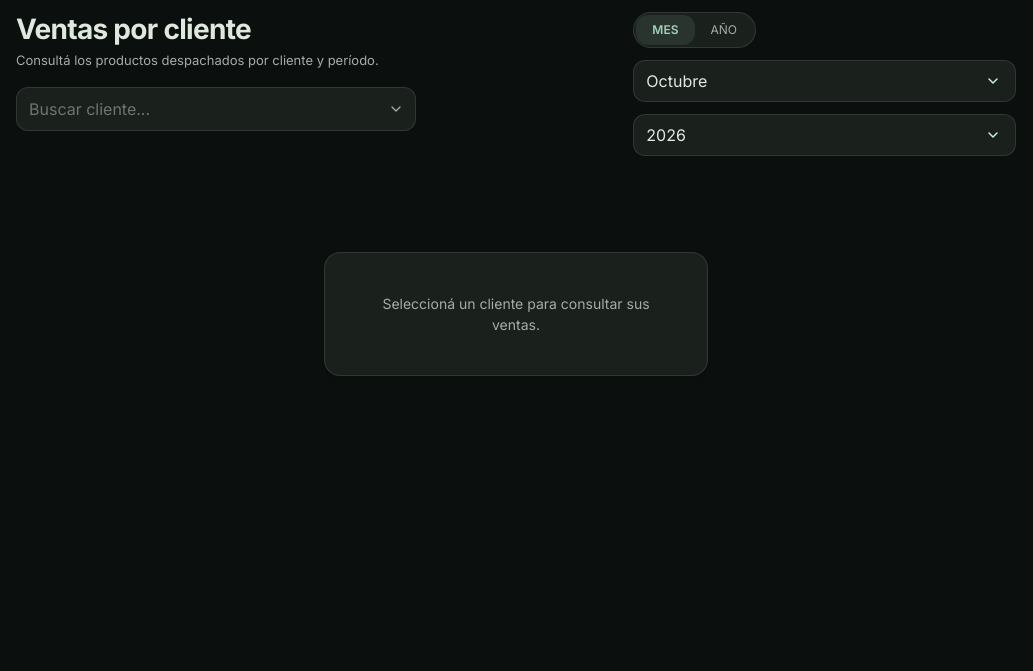
Test: VentasPage › filters by nombre and cuit and selects showing chip
This screenshot has width=1033, height=671.
Type "30-12345678-9" into the dropdown with placeholder "Buscar cliente...". click: (216, 108)
box: [16, 86, 416, 130]
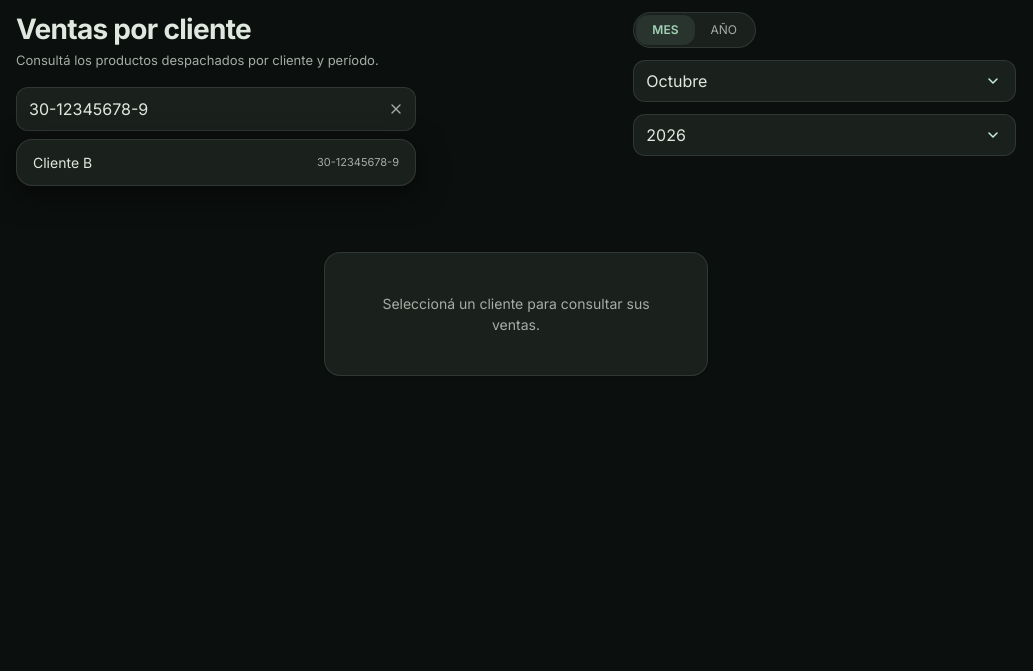
Check: the text "Cliente B" is shown
Click the text "Cliente B". click: (63, 162)
box: [33, 152, 92, 172]
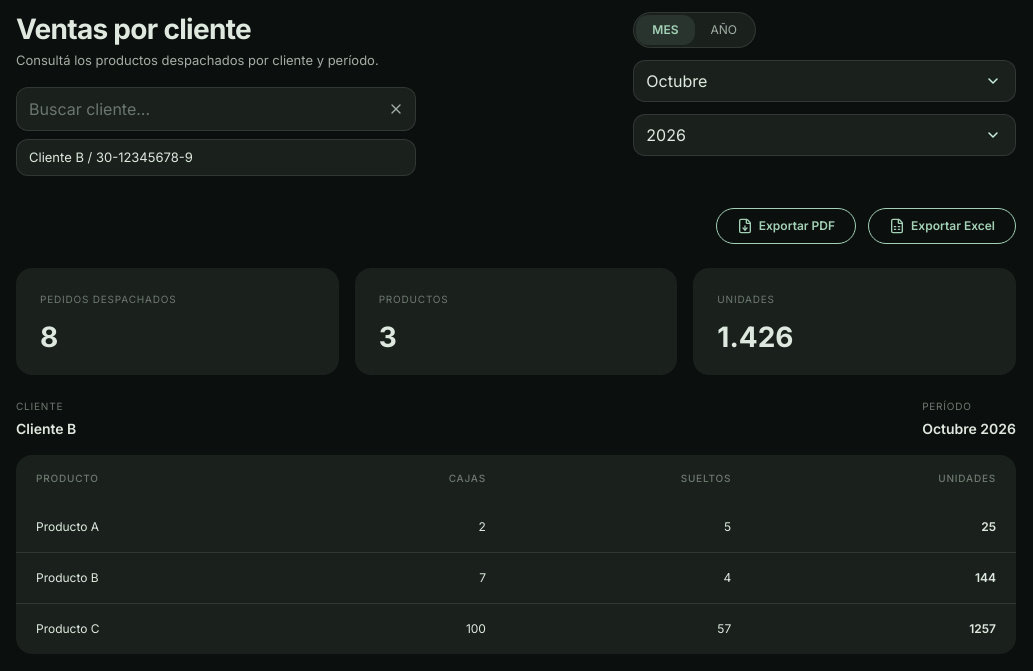
Check: the text "Cliente B / 30-12345678-9" is shown, box [29, 148, 193, 167]
